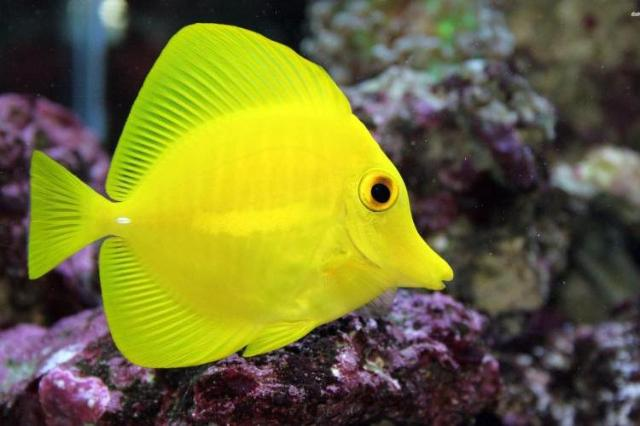Mulut: (390, 248, 474, 306)
Sirip Anal: (86, 229, 248, 378)
Sirip Ekor: (19, 134, 116, 294)
Sirip Perut: (235, 310, 332, 378)
Sirip Punggung: (101, 16, 352, 210)
